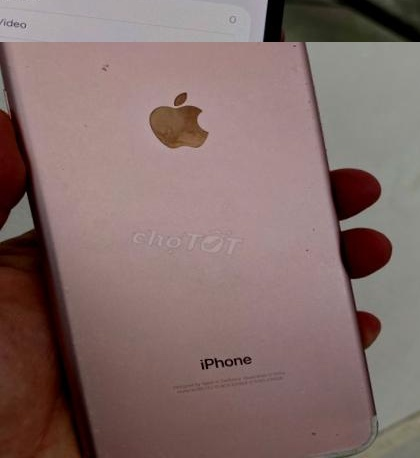scratch: (0, 42, 332, 111), (287, 209, 353, 281), (287, 409, 381, 458)
